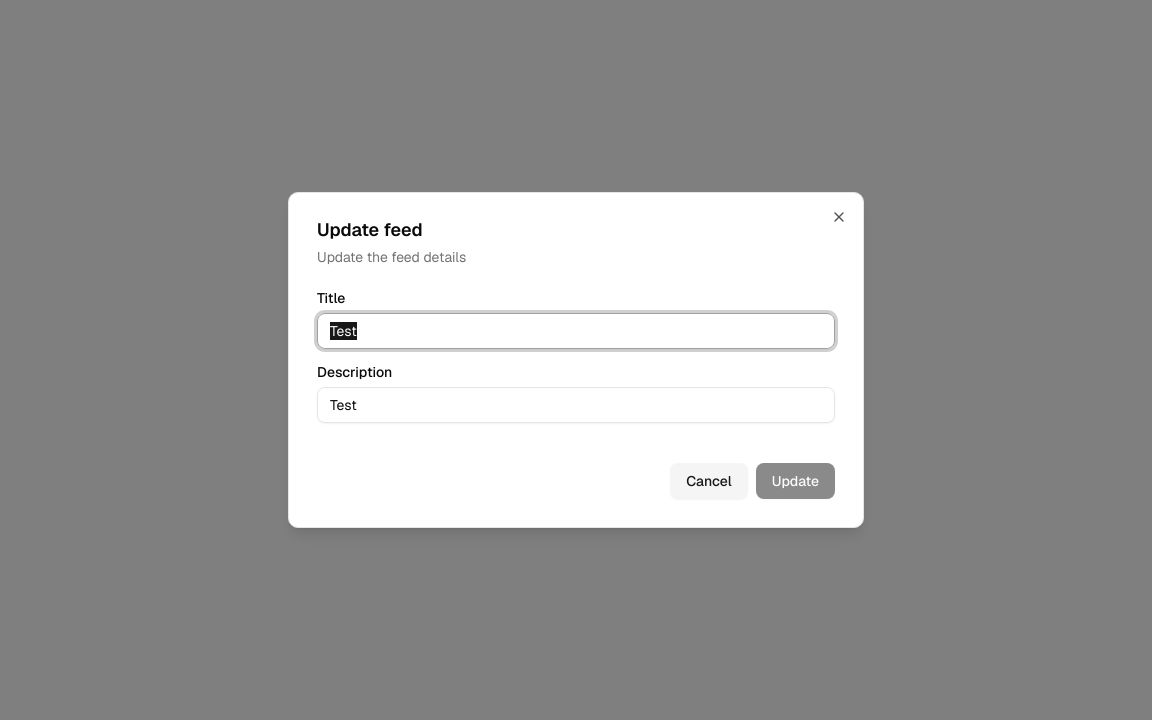
UpdateFeedDialog › Should enable confirm button when form is valid
Type "New title" into the field labelled "Title" at (576, 331), box [317, 313, 835, 349]
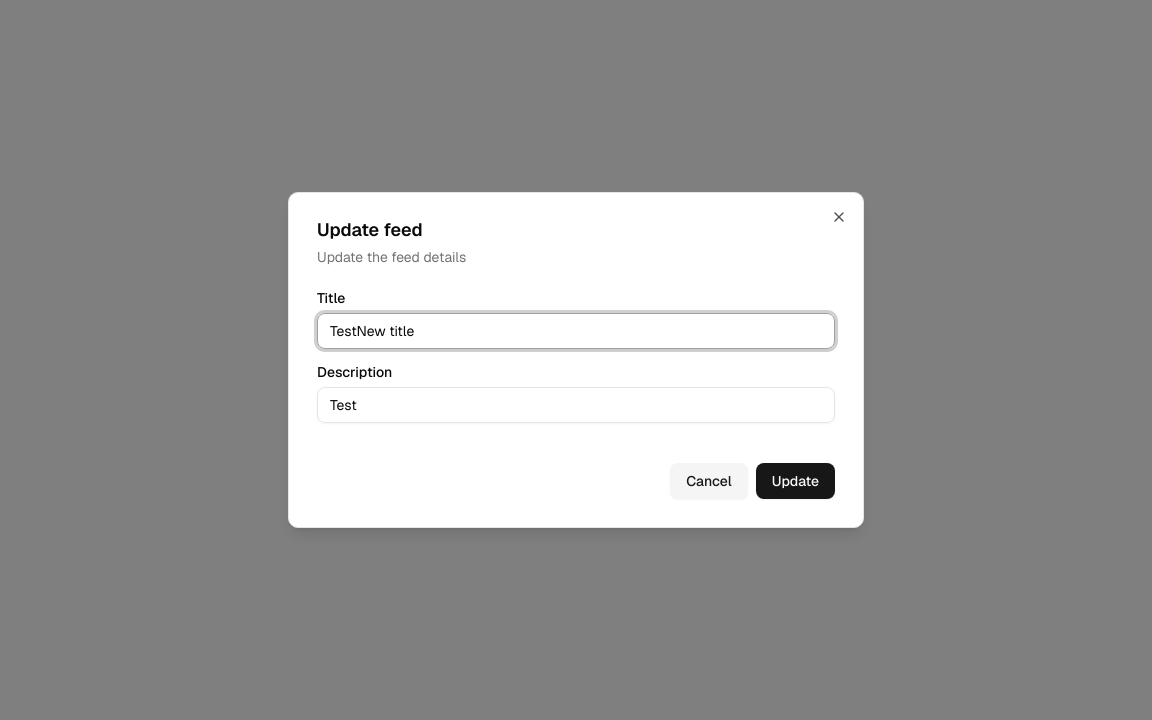
Expected: the button "Update" is enabled, [756, 463, 835, 499]
